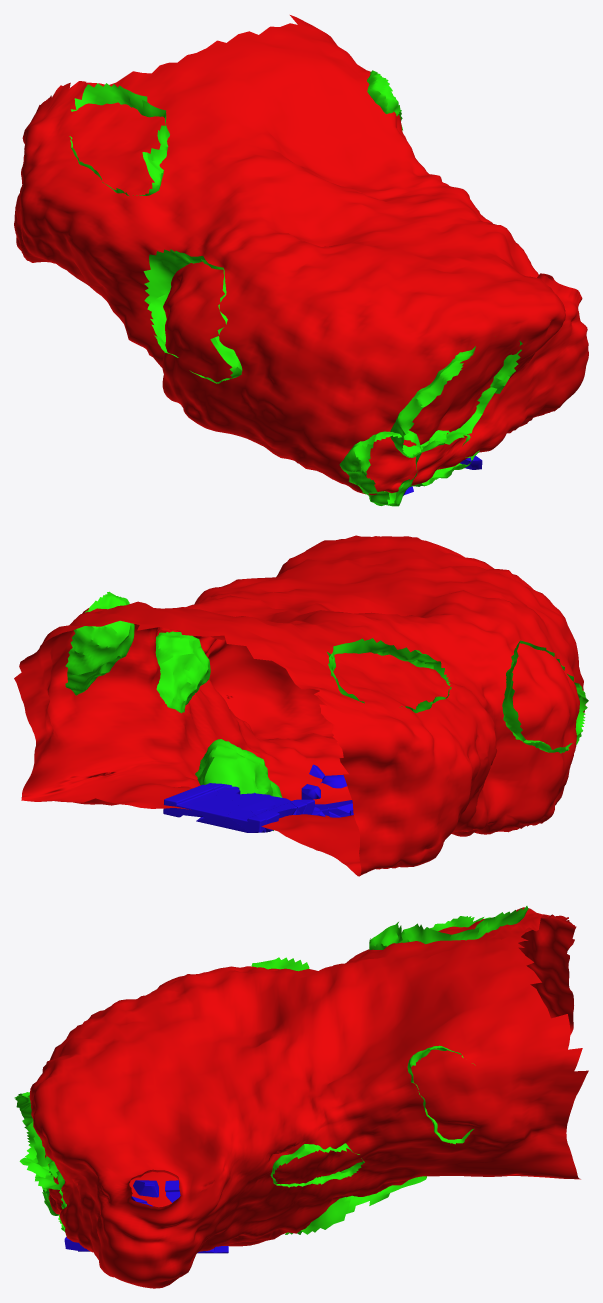
File: Grotte_Finidhed_low.fbx
3 renders of one model, top to bottom at view 1: azimuth 30°, elevation 25°; view 2: azimuth 150°, elevation 25°; view 3: azimuth 270°, elevation 25°, orthographic. The views are drawn at different scales.
Parts seen in each view (by area): view 1: rock.008, rock.003; view 2: rock.008, rock.003, Cube_cell.004, Cube_cell.003; view 3: rock.008, rock.003, Cube_cell.003.
Boxes of the visible parts, <box> form: rock.008: <box>14,15,588,495</box>; rock.003: <box>69,70,522,506</box>; rock.008: <box>14,535,585,876</box>; rock.003: <box>65,591,588,830</box>; Cube_cell.004: <box>163,783,314,832</box>; Cube_cell.003: <box>254,764,353,817</box>; rock.008: <box>29,907,588,1288</box>; rock.003: <box>14,906,528,1235</box>; Cube_cell.003: <box>133,1180,228,1253</box>.
Bounding box in the file's own units: 60.78 × 40.98 × 75.47.
